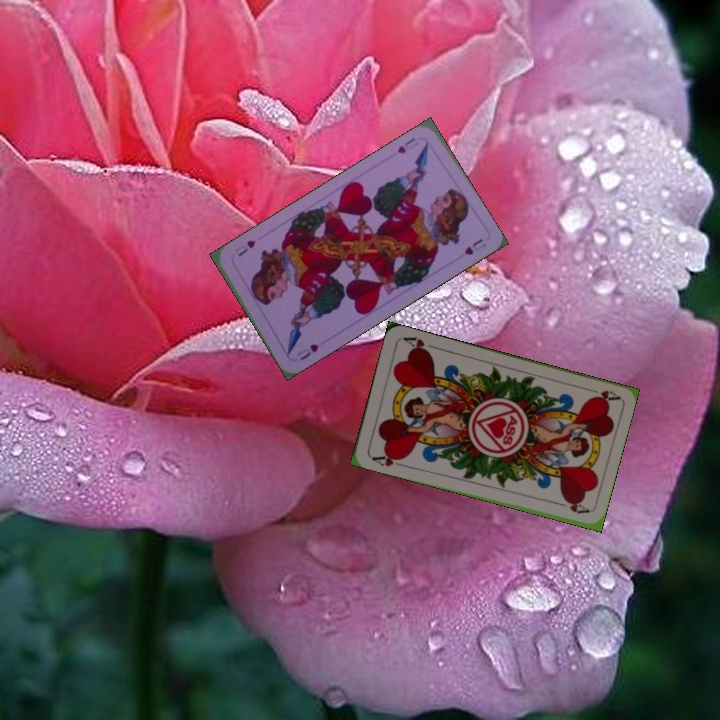HA: (581, 383, 621, 404), (367, 449, 408, 469)
HU: (293, 339, 321, 363), (393, 133, 421, 156)
